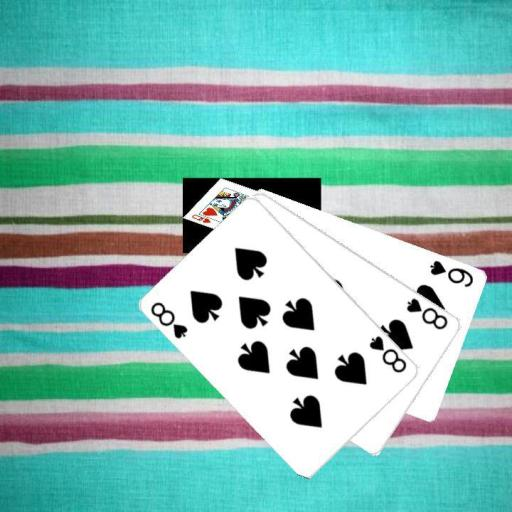6S: (427, 257, 475, 289)
8S: (366, 332, 409, 375), (148, 299, 190, 341), (403, 295, 450, 332)
